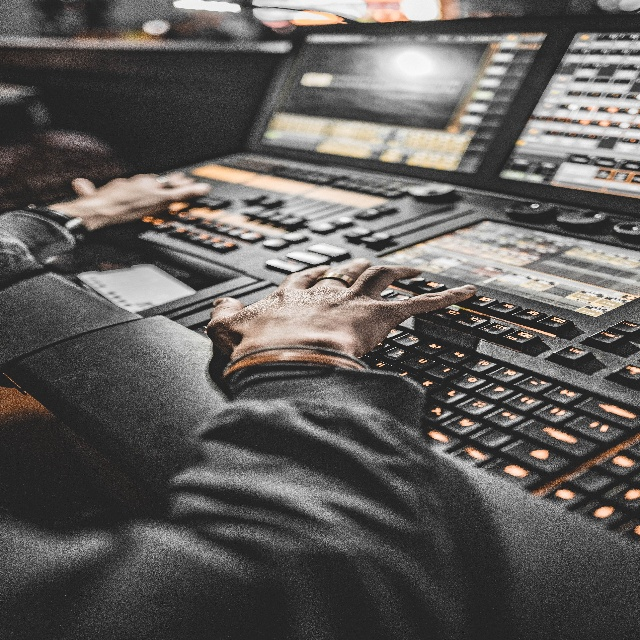Sin_guantes: (206, 252, 477, 363)
